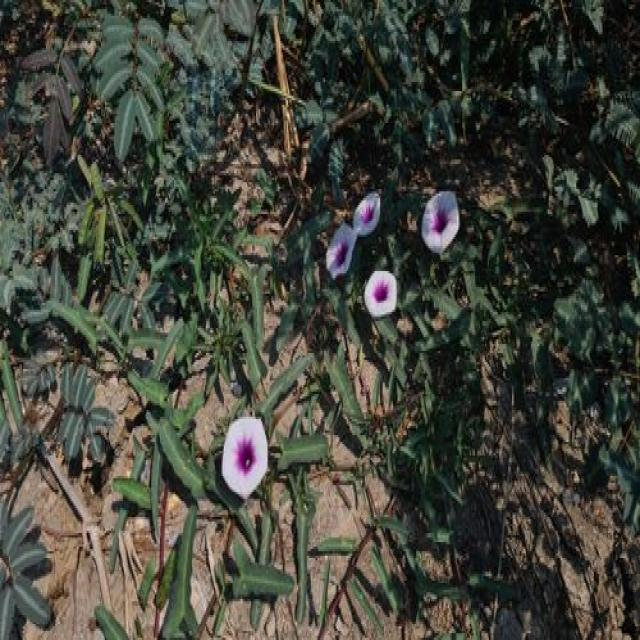ipomoea: (218, 410, 272, 506), (419, 184, 462, 262), (322, 218, 360, 284), (361, 264, 401, 324), (351, 187, 384, 241)
